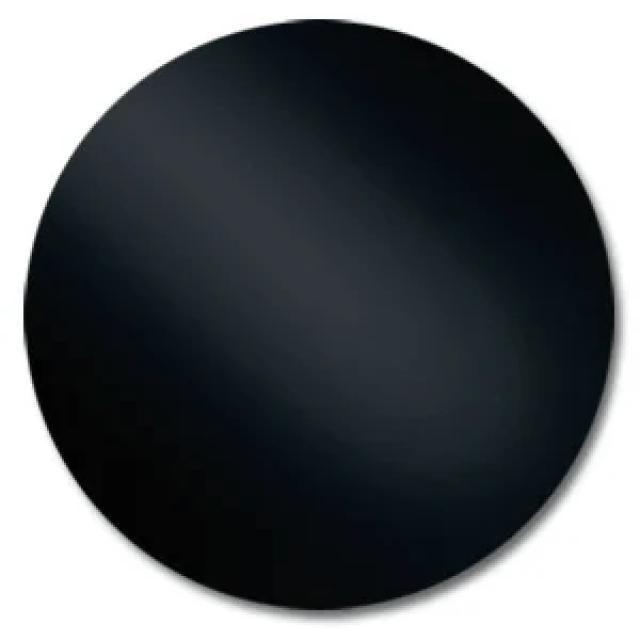hidden camera: (2, 2, 640, 640)
